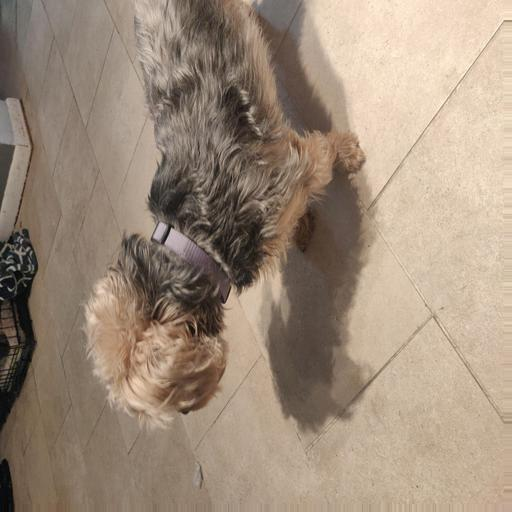dog: (66, 126, 362, 422)
